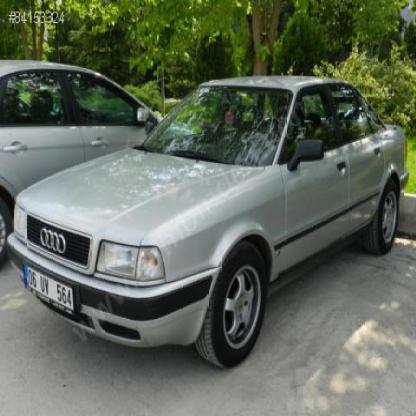Vehicle: (6, 76, 412, 371)
